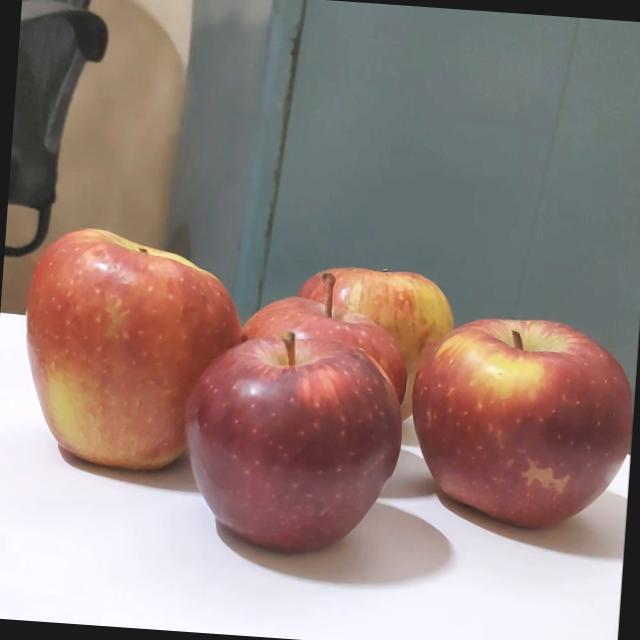apple: (392, 309, 640, 536), (17, 223, 241, 472), (182, 322, 408, 556), (228, 264, 410, 482), (293, 251, 457, 438)
